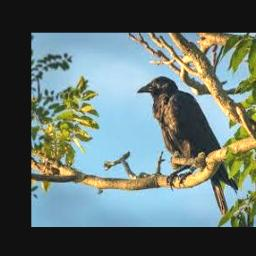Crow: (137, 76, 238, 215)
